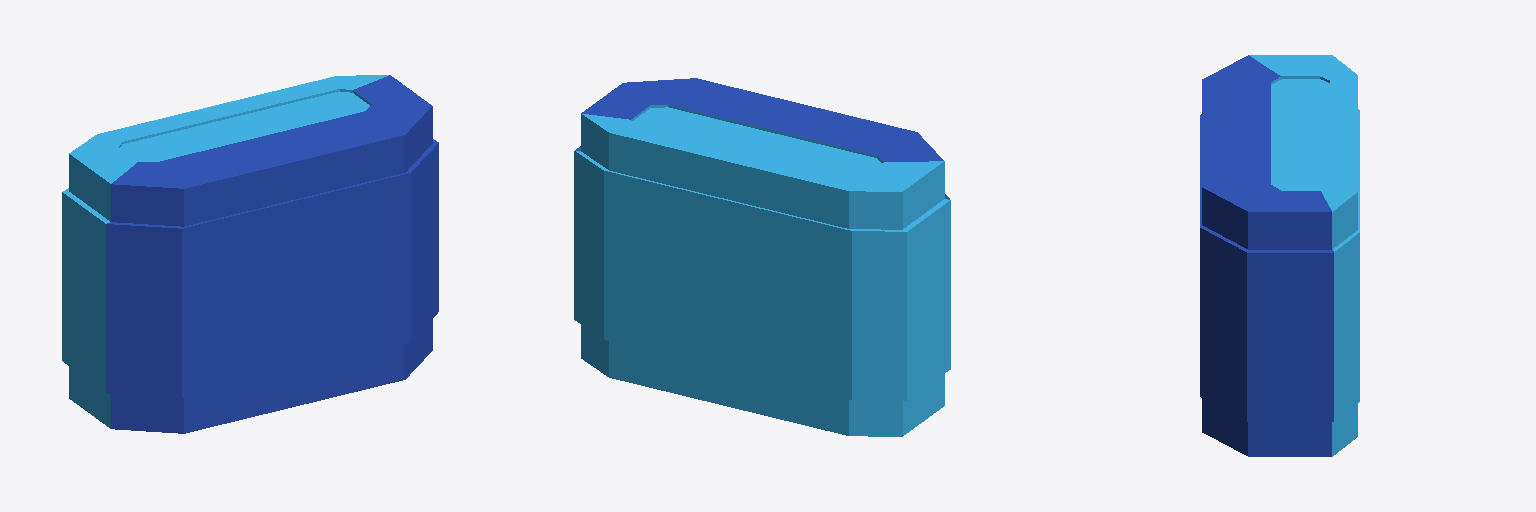
The model's file is tank_blue_chassis.obj.
3 renders of one model, left to right at view 1: azimuth 30°, elevation 25°; view 2: azimuth 150°, elevation 25°; view 3: azimuth 270°, elevation 25°, orthographic.
Visible parts, largest first — view 1: tank_body.005; view 2: tank_body.005; view 3: tank_body.005.
Part boxes in pixels (left/top/right/bottom): tank_body.005: left=62, top=75, right=438, bottom=433; tank_body.005: left=574, top=78, right=950, bottom=436; tank_body.005: left=1200, top=55, right=1359, bottom=456.
Bounding box in the file's own units: 49.47 × 34.79 × 20.71.